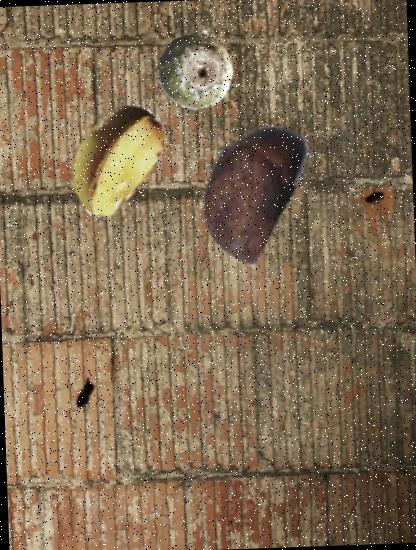Cactus: (154, 28, 238, 112)
Carambula: (54, 97, 176, 219)
Chestnut: (174, 112, 326, 263)
